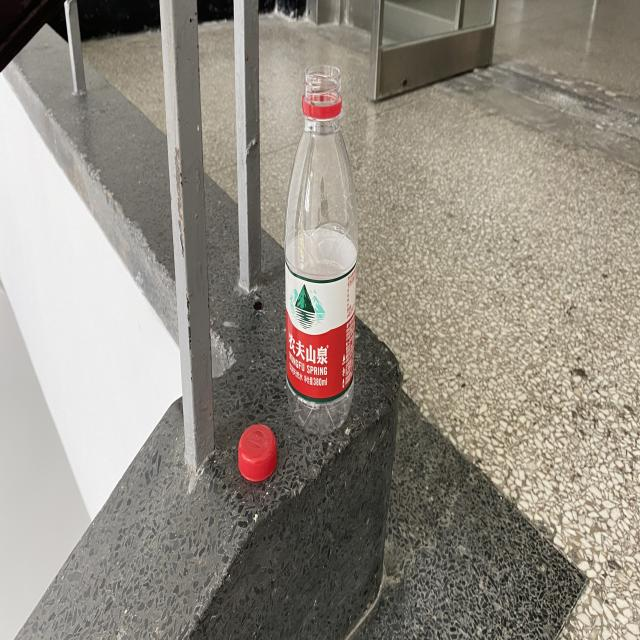Anorganik: (287, 59, 355, 428)
